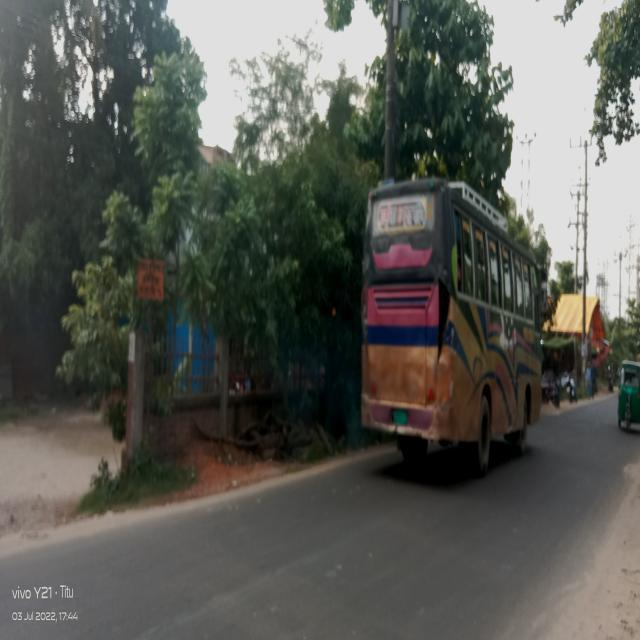Bus: (362, 159, 547, 482)
